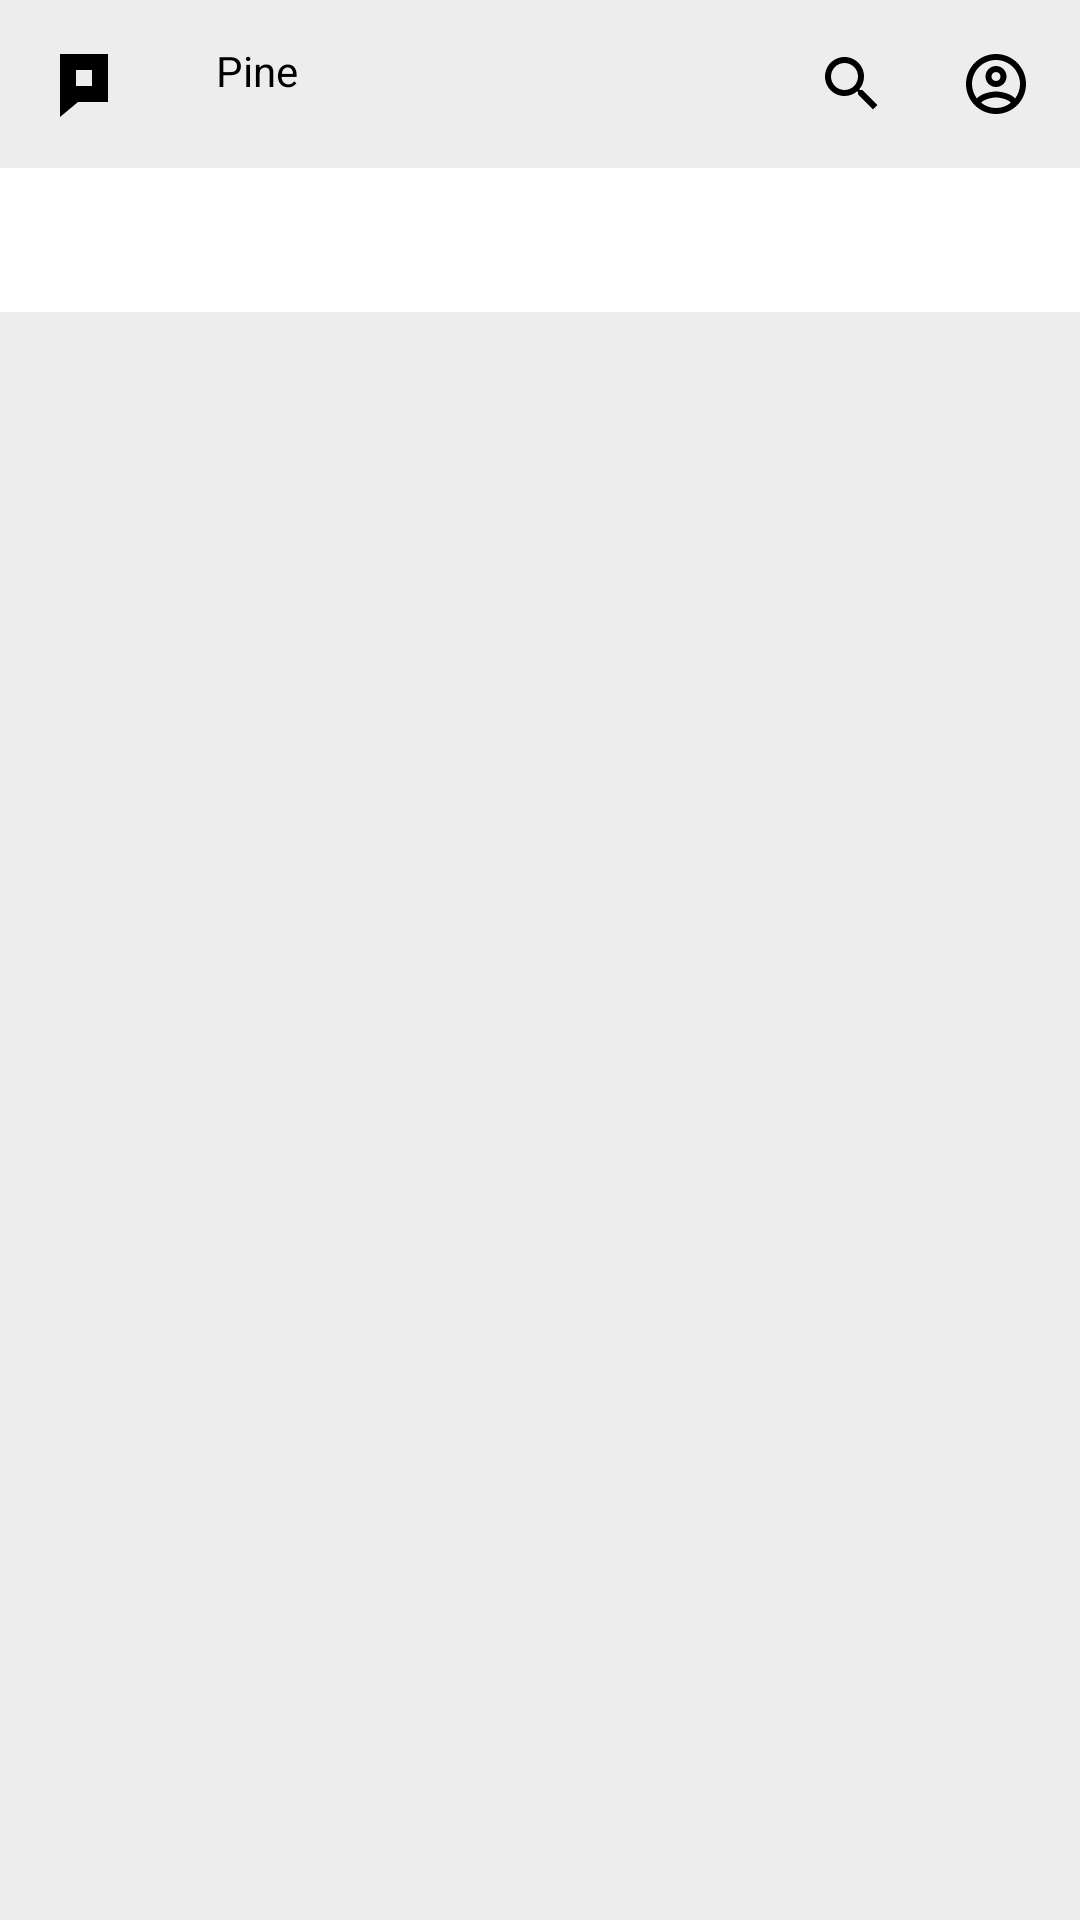

Icon click points for this 1080*1920 phone screenshot, format (x=x, y=y):
Profile Button: (x=996, y=84)
Search Button: (x=851, y=83)
